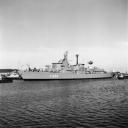Fragata: (18, 51, 114, 83)
